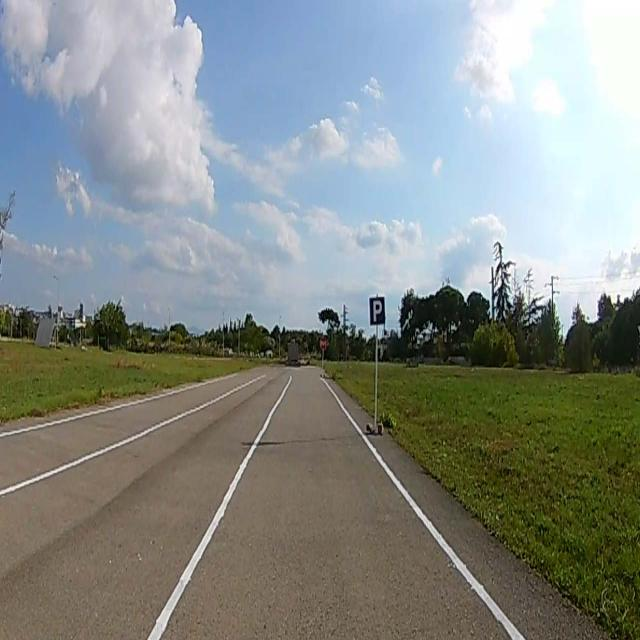park: (369, 297, 385, 323)
